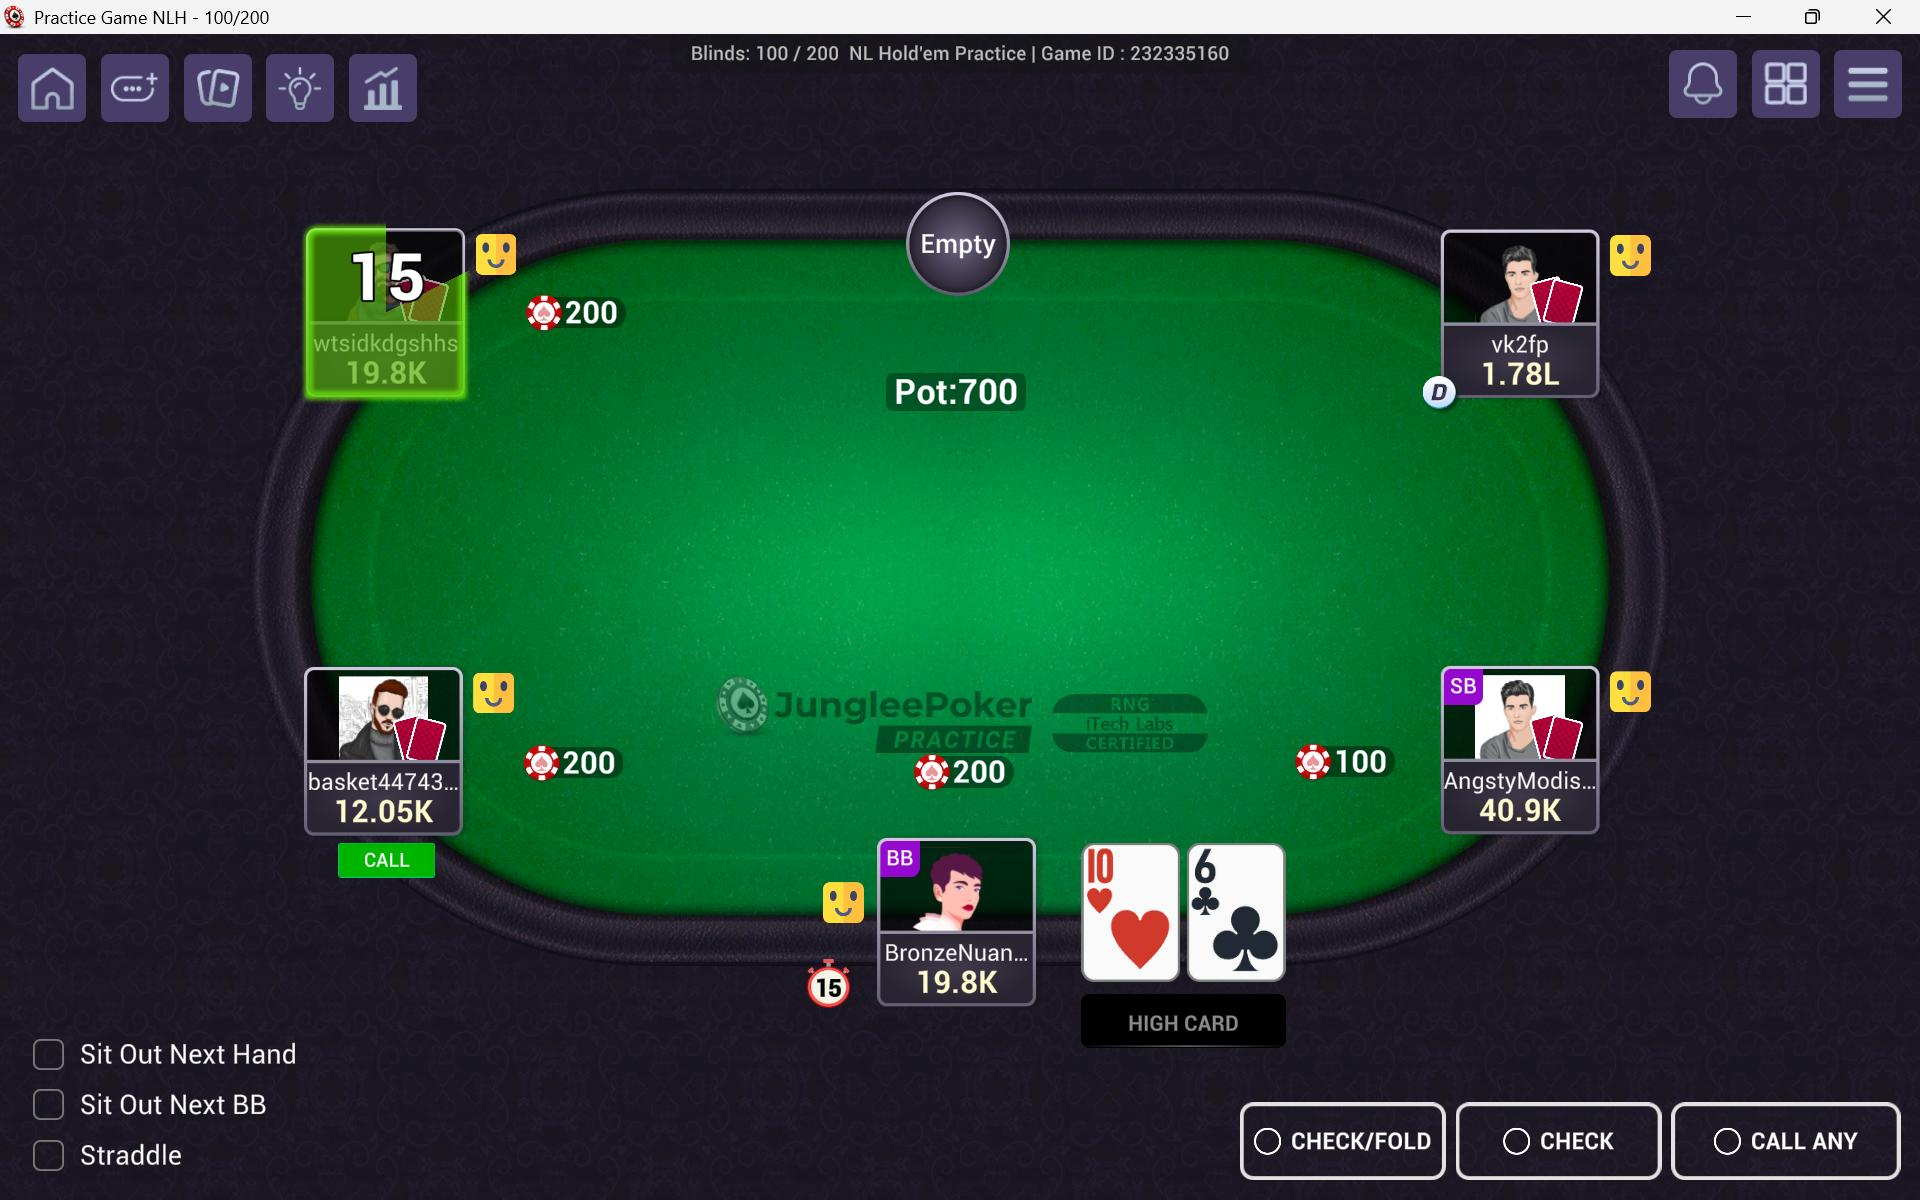card1_rank: (1088, 843, 1142, 900)
game_id: (1032, 38, 1242, 90)
my_bet: (910, 752, 1020, 798)
my_stack: (903, 962, 1012, 1000)
position_BB: (882, 840, 920, 880)
position_SB: (1448, 672, 1487, 707)
total_pot: (888, 372, 1032, 412)
villian1_bet: (528, 730, 628, 788)
villian1_name: (305, 762, 455, 795)
villian1_stack: (320, 798, 445, 828)
villian2_bet: (518, 290, 633, 332)
villian2_name: (312, 325, 468, 360)
villian2_stack: (335, 352, 448, 392)
villian4_name: (1445, 325, 1602, 360)
villian4_stack: (1468, 350, 1575, 392)
villian5_bet: (1290, 748, 1397, 780)
villian5_name: (1445, 767, 1595, 805)
villian5_stack: (1455, 788, 1598, 822)
